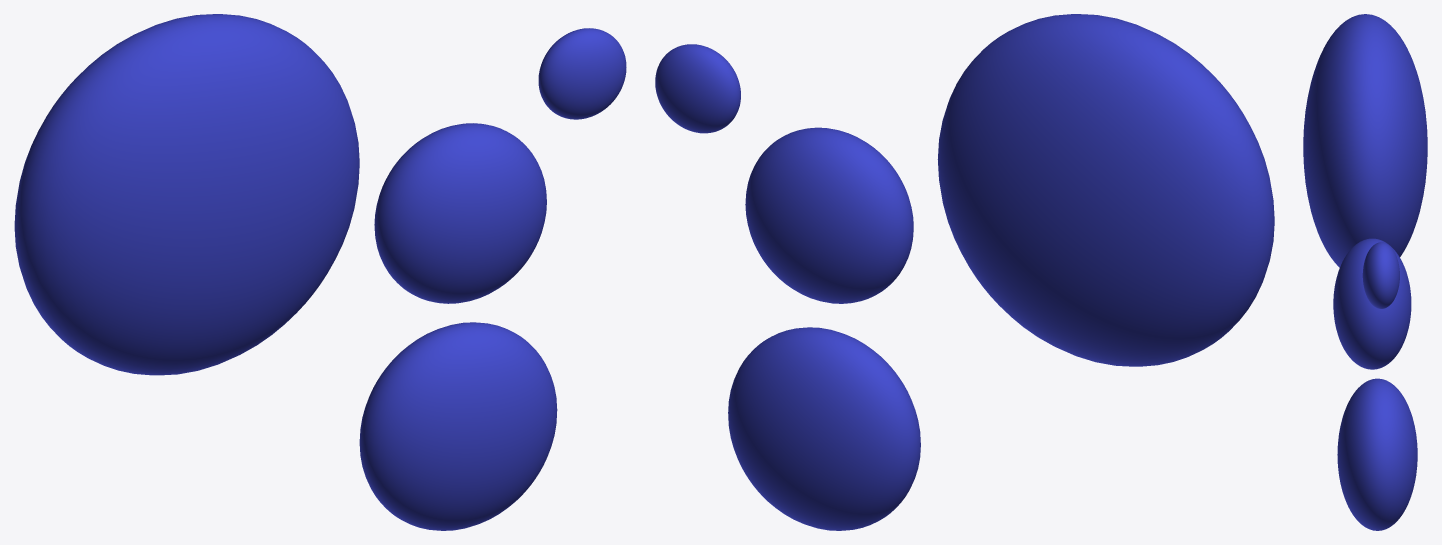
The model's file is aogoogle.fbx.
3 renders of one model, left to right at view 1: azimuth 30°, elevation 25°; view 2: azimuth 150°, elevation 25°; view 3: azimuth 270°, elevation 25°, orthographic. The views are drawn at different scales.
Parts seen in each view (by area): view 1: root (×4); view 2: root (×4); view 3: root (×4).
Part boxes in pixels (box(x1,y1,x2,y2)): root (×4): box(14, 14, 626, 530); root (×4): box(655, 14, 1274, 530); root (×4): box(1303, 14, 1427, 530).
Bounding box in the file's own units: 0.3668 × 0.3301 × 0.0926.
